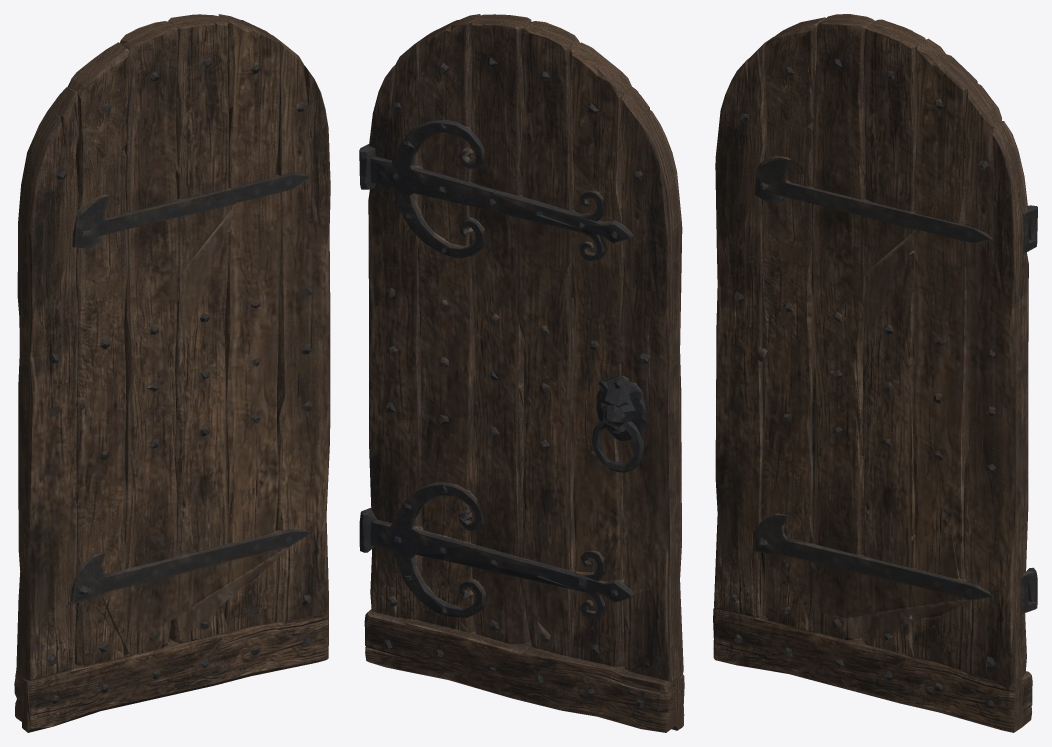
The model's file is sp_m_doorleaf.glb.
3 renders of one model, left to right at view 1: azimuth 30°, elevation 25°; view 2: azimuth 150°, elevation 25°; view 3: azimuth 330°, elevation 25°, orthographic.
Visible parts, largest first — view 1: Mesh_0; view 2: Mesh_0; view 3: Mesh_0.
Boxes of the visible parts, x1,y1,x2,y2 form: Mesh_0: (14,14,330,732); Mesh_0: (359,14,684,732); Mesh_0: (713,14,1037,732).
Size of the model in its own units: 0.9151 by 1.9 by 0.17.
1 material, 1 textured.
